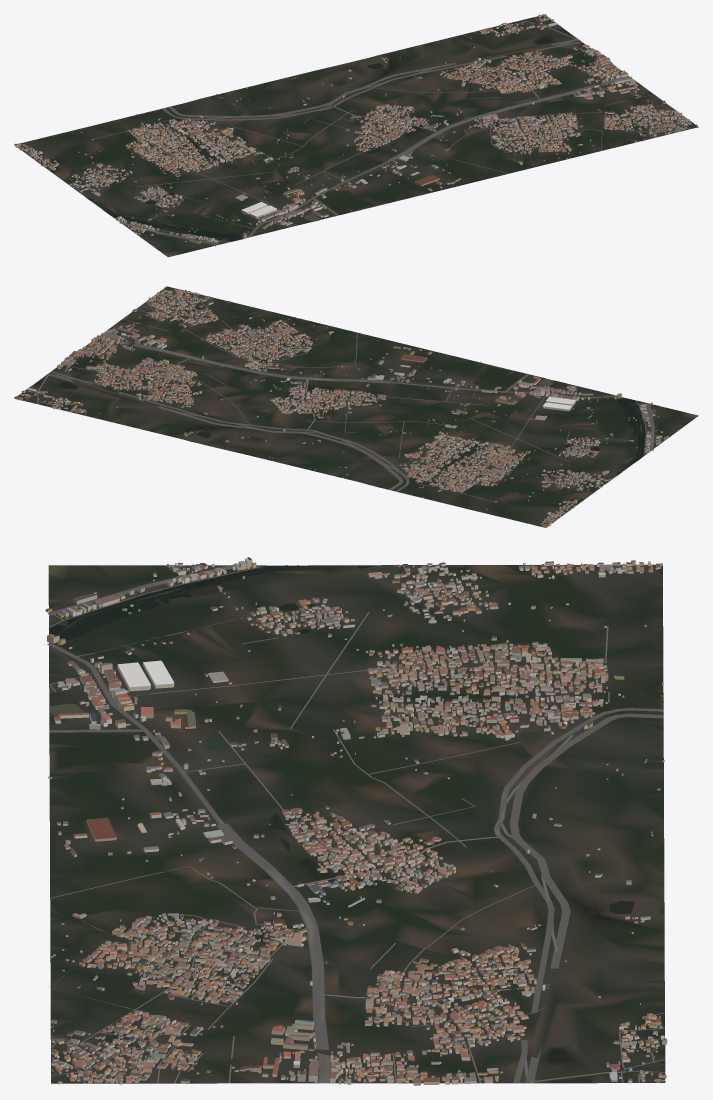
The picture shows the model from 3 angles, top to bottom: view 1: azimuth 30°, elevation 25°; view 2: azimuth 150°, elevation 25°; view 3: azimuth 270°, elevation 25°; orthographic projection. The views are drawn at different scales.
Parts seen in each view (by area): view 1: ground, buildings, roads, water; view 2: ground, buildings, roads, water; view 3: ground, buildings, roads, water.
Part boxes in pixels (bbox=[...]): ground: bbox=[14, 15, 698, 257]; buildings: bbox=[14, 14, 697, 246]; roads: bbox=[79, 17, 690, 245]; water: bbox=[87, 28, 573, 241]; ground: bbox=[14, 286, 698, 527]; buildings: bbox=[14, 286, 668, 527]; roads: bbox=[24, 288, 664, 502]; water: bbox=[33, 377, 645, 475]; ground: bbox=[48, 564, 665, 1083]; buildings: bbox=[45, 557, 667, 1085]; roads: bbox=[47, 564, 665, 1083]; water: bbox=[49, 565, 663, 1082].
Bounding box in the file's own units: 2820 × 29.44 × 1419.
